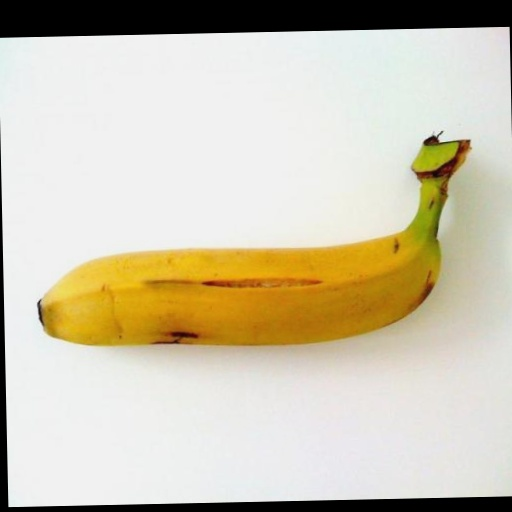fruit: (39, 137, 469, 345)
